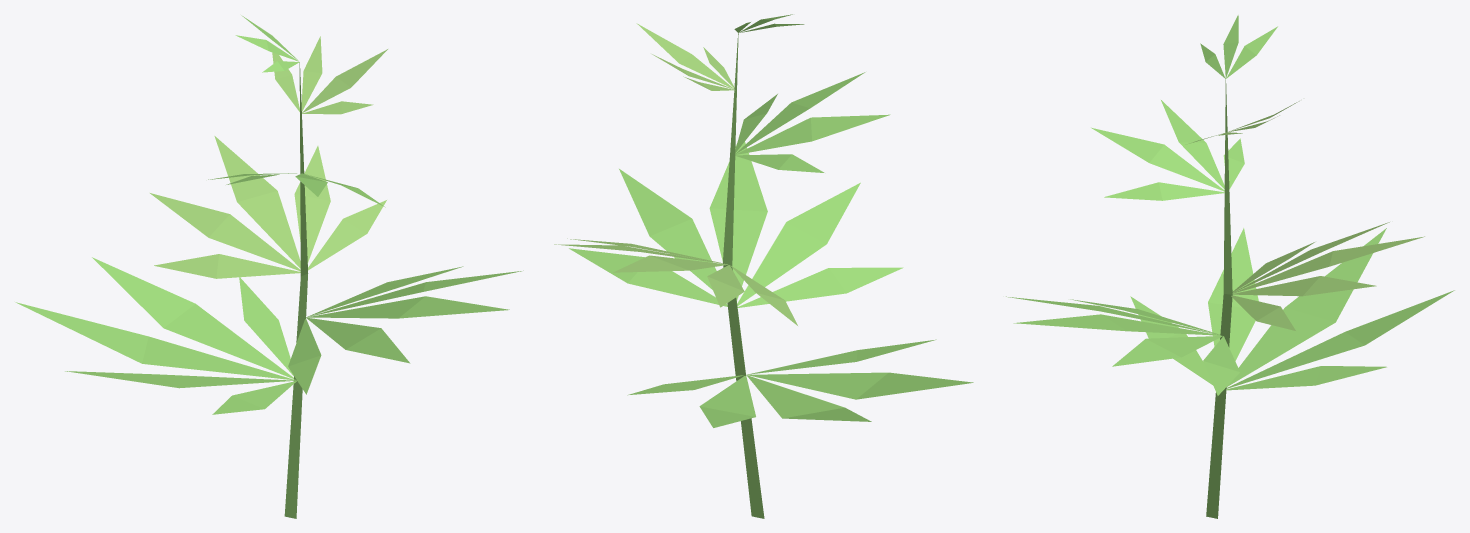
The model's file is Plant_i_OneS_04.fbx.
3 views of the same model, side by side, from view 1: azimuth 30°, elevation 25°; view 2: azimuth 150°, elevation 25°; view 3: azimuth 270°, elevation 25° (orthographic). The views are drawn at different scales.
Visible parts, largest first — view 1: Plant_i_OneS_04; view 2: Plant_i_OneS_04; view 3: Plant_i_OneS_04.
Boxes of the visible parts, bbox=[...] form: Plant_i_OneS_04: bbox=[15, 15, 523, 518]; Plant_i_OneS_04: bbox=[554, 14, 973, 518]; Plant_i_OneS_04: bbox=[1006, 15, 1454, 518].
Bounding box in the file's own units: 0.3582 × 0.419 × 0.3577.
